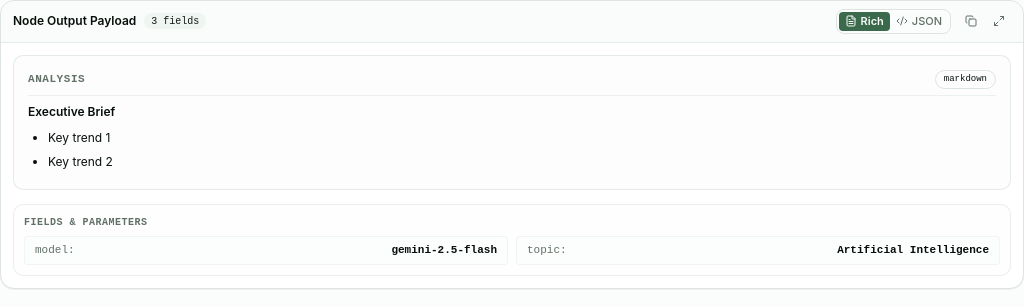
PayloadViewer › renders rich text markdown for analysis fields and toggles to JSON view
expect the text "Node Output Payload" is shown: met, box [13,13,136,29]
expect the heading "Executive Brief" is shown: met, box [28,104,115,119]
# Switch to raw JSON mode
Click the button "JSON" at (919, 21), box [890,12,948,31]
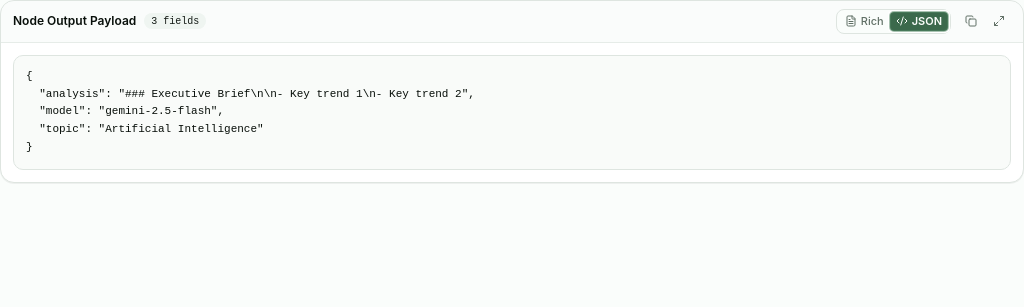
expect the text "\"model\": \"gemini-2.5-flash\"" is shown: met, box [26,70,475,153]
